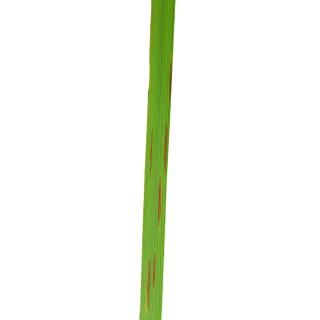Bercak-Cokelat-Sempit: (140, 120, 158, 178), (152, 250, 163, 300), (144, 254, 152, 318), (162, 121, 170, 179), (167, 57, 175, 109), (158, 176, 165, 231)
